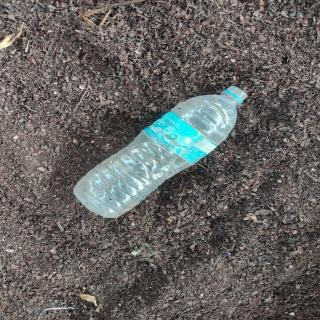Plastic-bottle: (71, 84, 254, 222)
